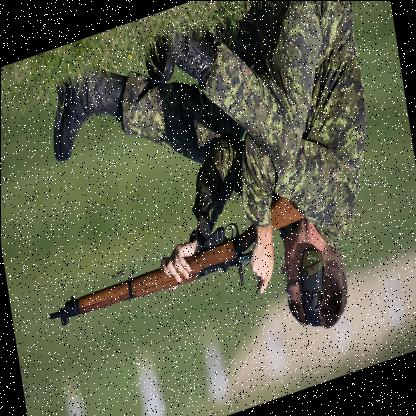rifle: (38, 183, 310, 335)
